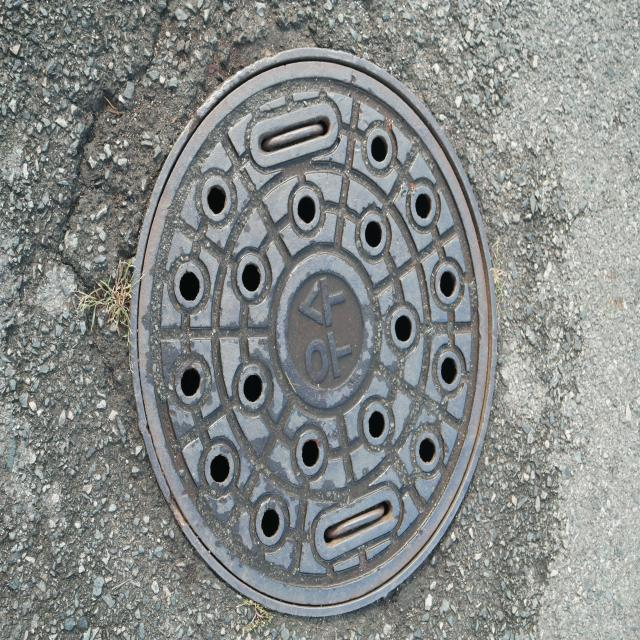manhole: (131, 49, 495, 616)
